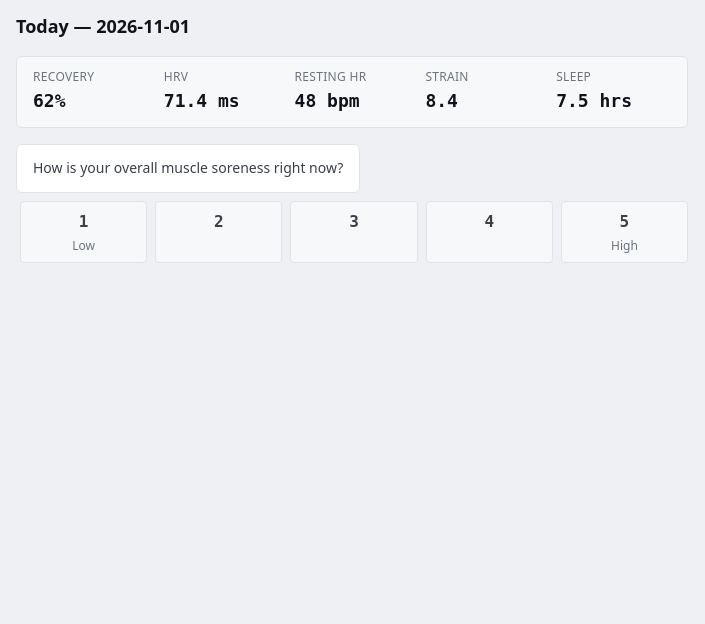
MorningView › happy path: fetches context, answers the health check, and renders the verdict
Check: the element with test id "biometrics-header" shows "62%", box [33,90,66,111]
Click the button "3": [354, 232] box [290,201,418,263]
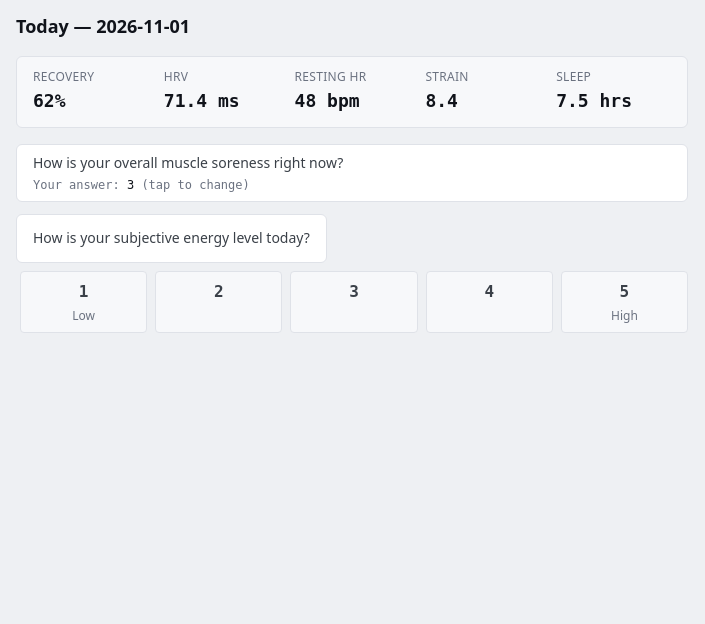
Click the button "3": [354, 302] box [290,271,418,333]
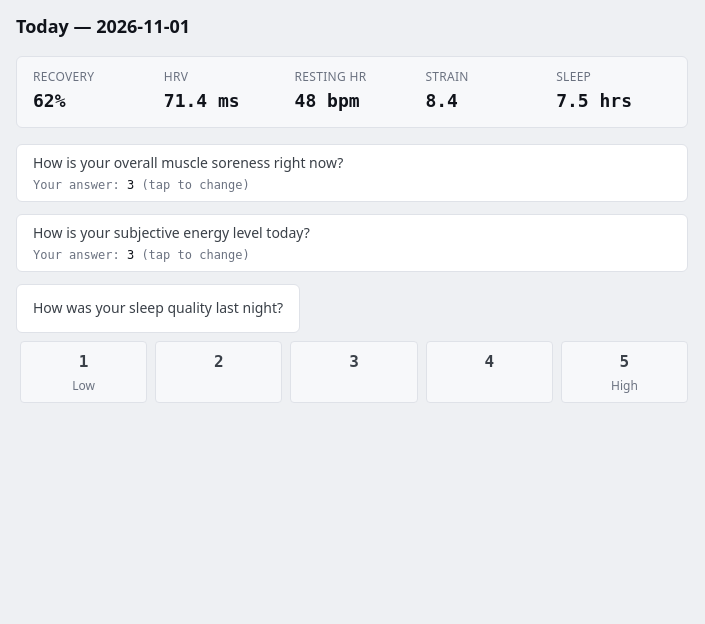
Click the button "3": [354, 372] box [290,341,418,403]
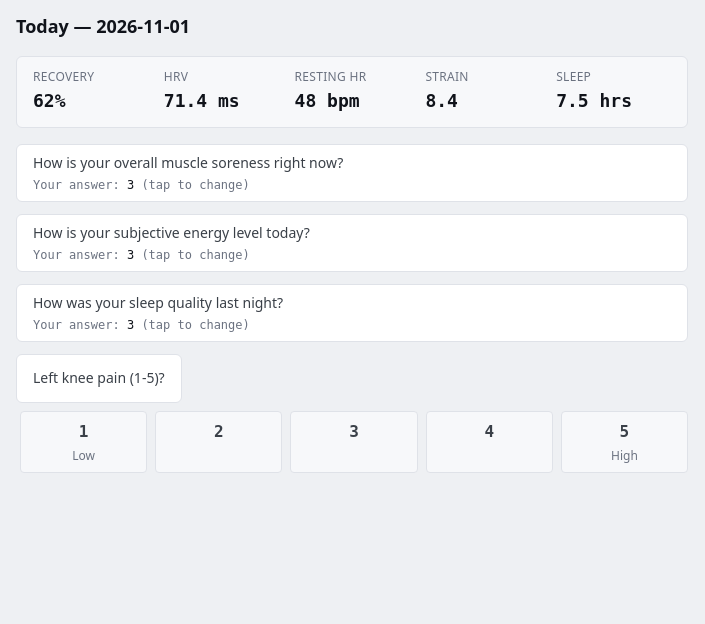
Click the button "3": [354, 442] box [290,411,418,473]
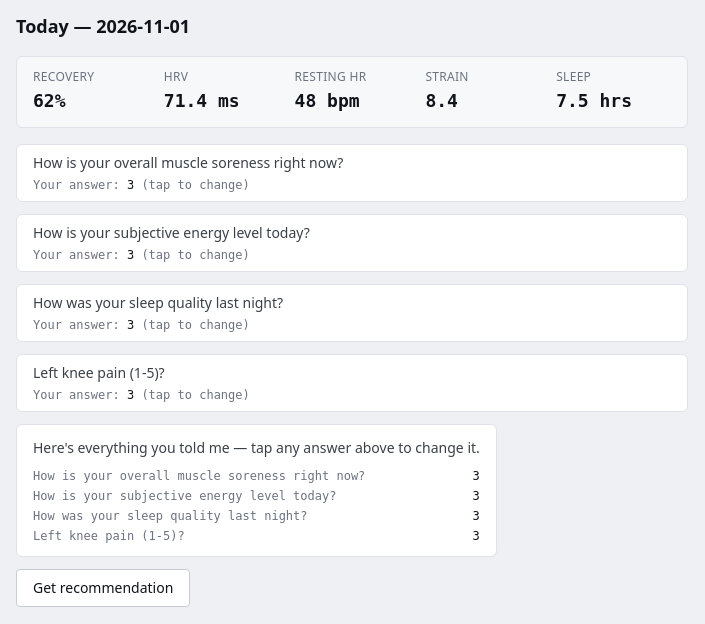
Click the button with test id "confirm-decision": [103, 588] box [16,569,190,607]
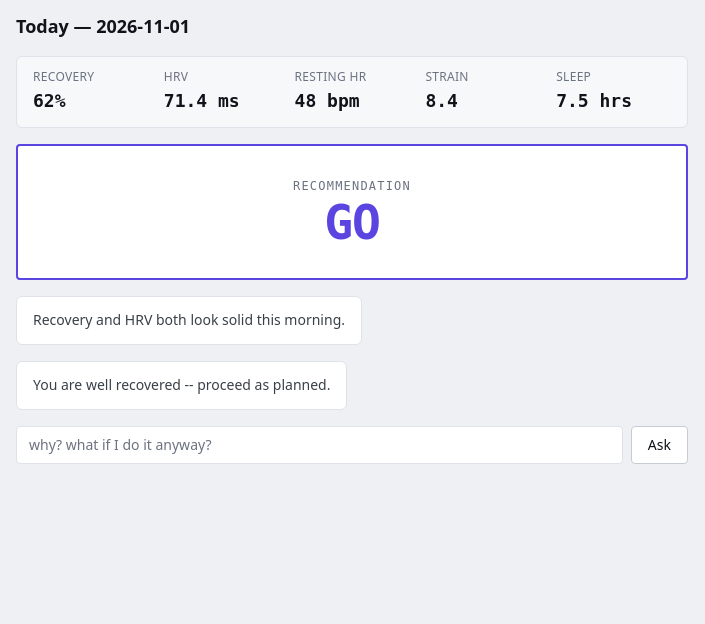
Check: the element with test id "verdict-stamp" shows "GO", box [324,194,380,250]
Check: the element with test id "morning-explanation" reads "You are well recovered -- proceed as planned.", box [33,375,330,394]
Check: the element with test id "morning-followup" is shown, box [16,426,688,464]
